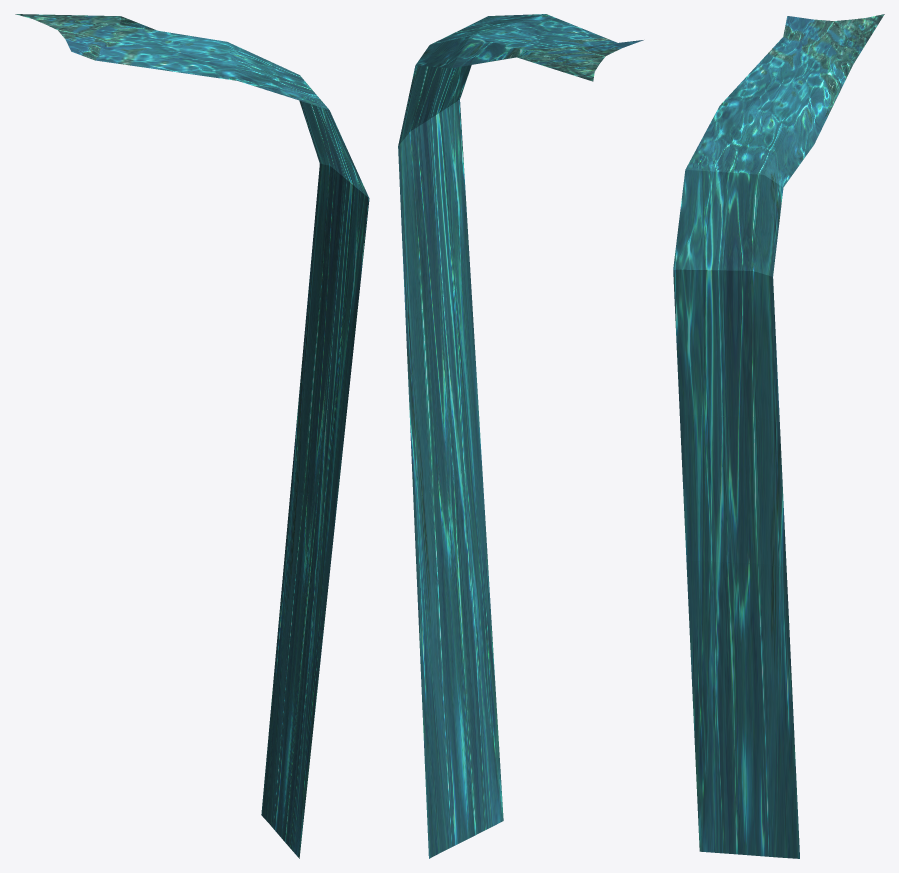
Rendered from yanjiang.FBX.
3 views of the same model, side by side, from view 1: azimuth 30°, elevation 25°; view 2: azimuth 150°, elevation 25°; view 3: azimuth 270°, elevation 25° (orthographic). The views are drawn at different scales.
Visible parts, largest first — view 1: Plane01; view 2: Plane01; view 3: Plane01.
Part boxes in pixels (x1,y1,x2,y2): Plane01: (15, 14, 369, 858); Plane01: (398, 14, 643, 858); Plane01: (673, 14, 884, 858).
Bounding box in the file's own units: 1150 × 3664 × 932.
